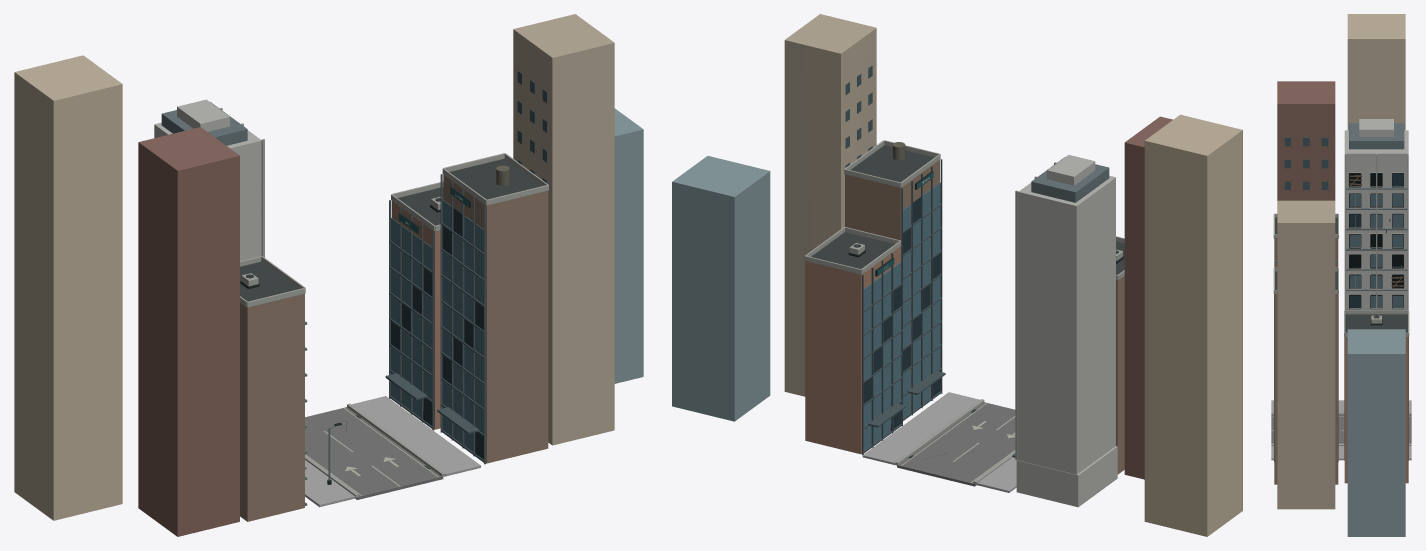
Rendered from city_hd_04.glb.
3 renders of one model, left to right at view 1: azimuth 30°, elevation 25°; view 2: azimuth 150°, elevation 25°; view 3: azimuth 270°, elevation 25°, orthographic. The views are drawn at different scales.
Visible parts, largest first — view 1: Background city building.001, Background city building, Background city building.002, CITY_realwall_927d6c, CITY_realwall_a5826d, CITY_office_frame, Background city building.003, CITY_PBR_asphalt, CITY_PBR_pavement, CITY_shop_glass, CITY_roof, CITY_trim (+4 smaller); view 2: Background city building.001, CITY_shop_glass, Background city building.003, Background city building.002, Office core.001, CITY_realwall_a5826d, Background city building, CITY_office_frame, CITY_realwall_927d6c, CITY_PBR_asphalt, CITY_PBR_pavement, CITY_trim (+4 smaller); view 3: Background city building.002, Background city building.003, Background city building, CITY_shop_glass, Background city building.001, CITY_trim, CITY_modern_panel, CITY_glass, CITY_realwall_927d6c, CITY_recess, Office core.001, CITY_roof (+8 smaller).
Part boxes in pixels (bbox=[...]): Background city building.001: bbox=[14, 55, 122, 520]; Background city building: bbox=[138, 127, 239, 536]; Background city building.002: bbox=[513, 14, 614, 445]; CITY_realwall_927d6c: bbox=[240, 174, 548, 521]; CITY_realwall_a5826d: bbox=[391, 200, 483, 451]; CITY_office_frame: bbox=[385, 174, 485, 464]; Background city building.003: bbox=[614, 108, 643, 383]; CITY_PBR_asphalt: bbox=[305, 407, 443, 499]; CITY_PBR_pavement: bbox=[305, 396, 480, 507]; CITY_shop_glass: bbox=[154, 99, 261, 260]; CITY_roof: bbox=[240, 158, 541, 307]; CITY_trim: bbox=[220, 108, 548, 307]; Background city building.001: bbox=[1144, 114, 1242, 536]; CITY_shop_glass: bbox=[1016, 155, 1117, 507]; Background city building.003: bbox=[672, 156, 770, 421]; Background city building.002: bbox=[784, 14, 876, 396]; Office core.001: bbox=[805, 246, 900, 454]; CITY_realwall_a5826d: bbox=[863, 182, 940, 450]; Background city building: bbox=[1124, 116, 1172, 479]; CITY_office_frame: bbox=[862, 159, 1015, 457]; CITY_realwall_927d6c: bbox=[845, 160, 1124, 474]; CITY_PBR_asphalt: bbox=[897, 402, 1015, 486]; CITY_PBR_pavement: bbox=[862, 392, 1016, 492]; CITY_trim: bbox=[804, 140, 1124, 460]; Background city building.002: bbox=[1277, 200, 1335, 509]; Background city building.003: bbox=[1347, 329, 1405, 536]; Background city building: bbox=[1277, 81, 1335, 200]; CITY_shop_glass: bbox=[1344, 119, 1408, 309]; Background city building.001: bbox=[1347, 14, 1405, 130]; CITY_trim: bbox=[1273, 153, 1409, 336]; CITY_modern_panel: bbox=[1274, 123, 1407, 310]; CITY_glass: bbox=[1349, 194, 1403, 308]; CITY_realwall_927d6c: bbox=[1274, 239, 1338, 484]; CITY_recess: bbox=[1349, 173, 1403, 309]; Office core.001: bbox=[1344, 337, 1408, 483]; CITY_roof: bbox=[1274, 217, 1407, 332].
Size of the model in its own units: 57.3 by 39.26 by 16.
